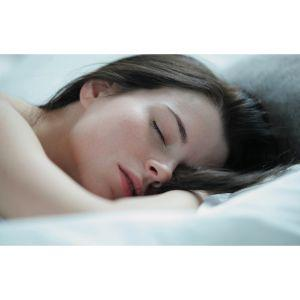sleep: (0, 56, 300, 219), (90, 104, 203, 195)
